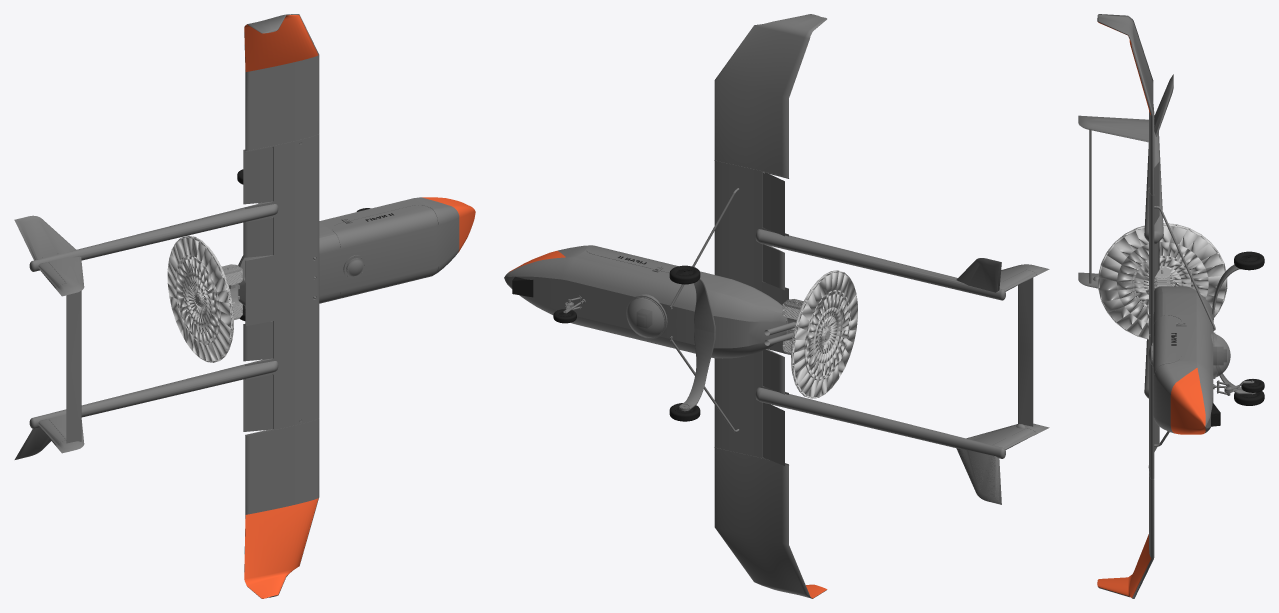
Rendered from lipan_body_with_prop.obj.
The picture shows the model from 3 angles, left to right: view 1: azimuth 30°, elevation 25°; view 2: azimuth 150°, elevation 25°; view 3: azimuth 270°, elevation 25°; orthographic projection.
Visible parts, largest first — view 1: Componente_6, Componente_6.001, Componente_26.001, propeller, Componente_26, Componente_7, Componente_8.001, Componente_1.001, Componente_1, Componente_4.001, Componente_7.001, aileron_(L) (+8 smaller); view 2: Componente_4.001, Componente_26.001, Componente_26, propeller, Componente_6.001, Componente_4, Componente_6, Componente_1, Componente_1.001, aileron_(L), aileron_(R), Componente_3 (+7 smaller); view 3: propeller, Componente_4.001, Componente_26.001, Componente_5.001, Componente_8.001, Componente_2.001, Componente_7, Componente_1.001, Componente_6.001, Componente_6, Componente_26, Componente_40 (+9 smaller).
Part boxes in pixels (x1,y1,x2,y2): Componente_6: (245,276,319,435); Componente_6.001: (245,134,319,293); Componente_26.001: (244,14,319,150); propeller: (167,235,234,362); Componente_26: (244,419,319,598); Componente_7: (244,498,318,598); Componente_8.001: (332,205,438,269); Componente_1.001: (29,202,278,271); Componente_1: (29,359,278,428); Componente_4.001: (238,197,459,293); Componente_7.001: (244,15,318,71); aileron_(L): (243,147,272,257); Componente_4.001: (504,245,795,335); Componente_26.001: (714,14,826,177); Componente_26: (714,448,826,598); propeller: (791,270,857,398); Componente_6.001: (714,160,788,305); Componente_4: (504,278,793,358); Componente_6: (714,341,788,465); Componente_1: (755,387,1005,458); Componente_1.001: (755,229,1005,300); aileron_(L): (762,173,784,290); aileron_(R): (762,349,784,465); Componente_3: (822,403,1001,504); propeller: (1098,223,1227,339); Componente_4.001: (1153,286,1213,426); Componente_26.001: (1097,14,1154,195); Componente_5.001: (1170,368,1205,426); Componente_8.001: (1153,315,1181,395); Componente_2.001: (1078,115,1148,142); Componente_7: (1097,534,1151,597); Componente_1.001: (1144,115,1163,244); Componente_6.001: (1148,187,1154,337); Componente_6: (1148,329,1154,480); Componente_26: (1098,474,1154,598); Componente_40: (1211,332,1230,378).
Bounding box in the file's own units: 14.58 × 16.57 × 4.93.
